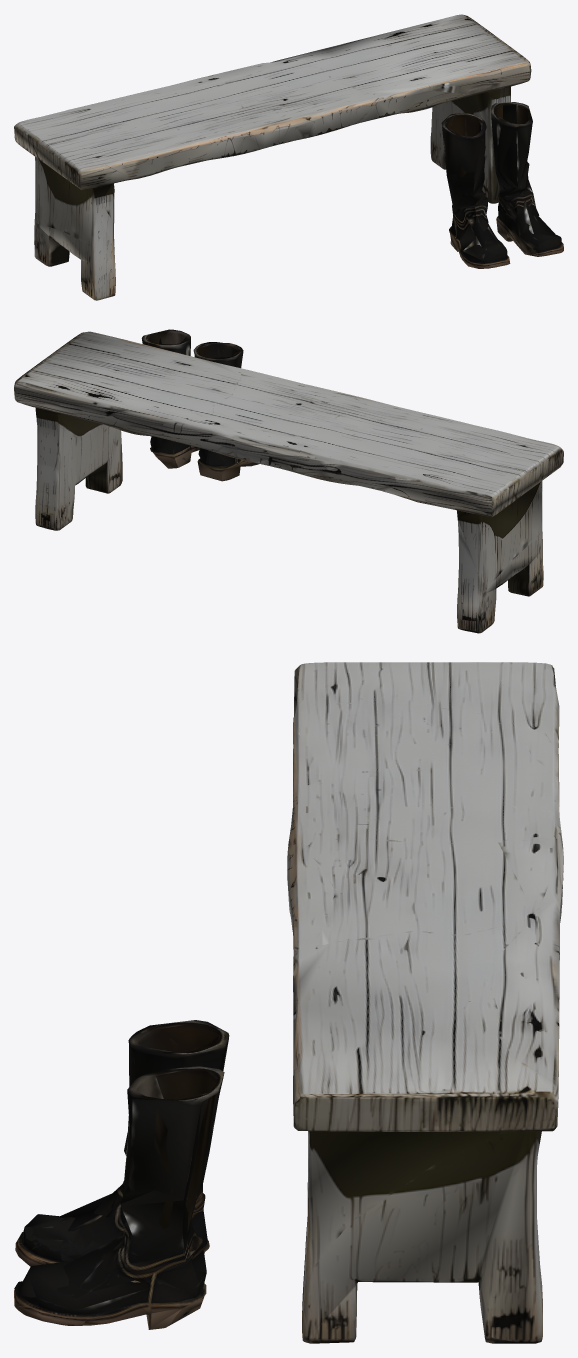
Rendered from lhi_boot_bench.glb.
3 renders of one model, top to bottom at view 1: azimuth 30°, elevation 25°; view 2: azimuth 150°, elevation 25°; view 3: azimuth 270°, elevation 25°, orthographic. The views are drawn at different scales.
Parts seen in each view (by area): view 1: material; view 2: material; view 3: material.
Part boxes in pixels (x1,y1,x2,y2): material: (14, 14, 563, 300); material: (14, 329, 563, 633); material: (14, 662, 563, 1343).
Size of the model in its own units: 1.03 by 0.3052 by 0.5544.
Materials: 1 (1 with a texture image).
